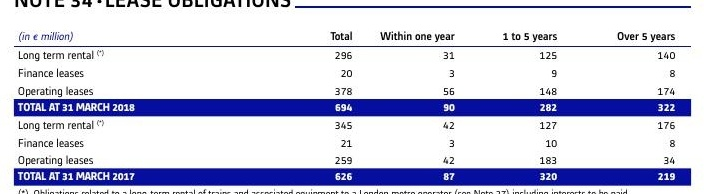table: (0, 0, 704, 194)
